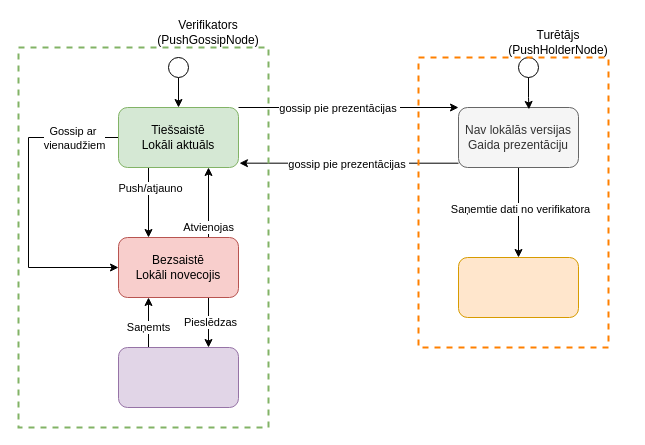
Some shapes in this 645 by 445 pixel diagram are drawn without their labels. Here are the shapes that lost their labels. From the top down, the centre of each, then its label:
At [518,287]: "Lokāli aktuāls var nodot tālāk".
At [178,377]: "Gaida push paziņo izdevēja par pievienošanos".
